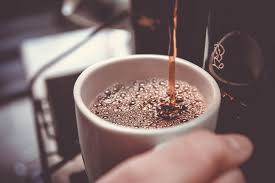kahve: (72, 53, 222, 135)
